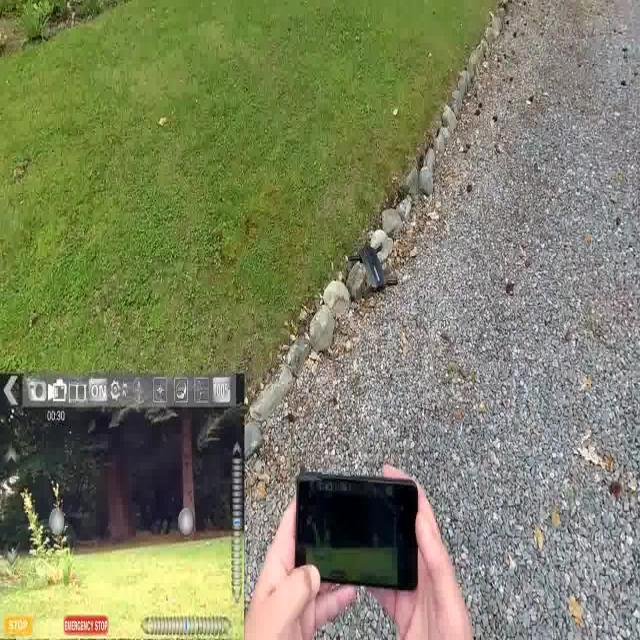drones: (337, 228, 406, 312)
